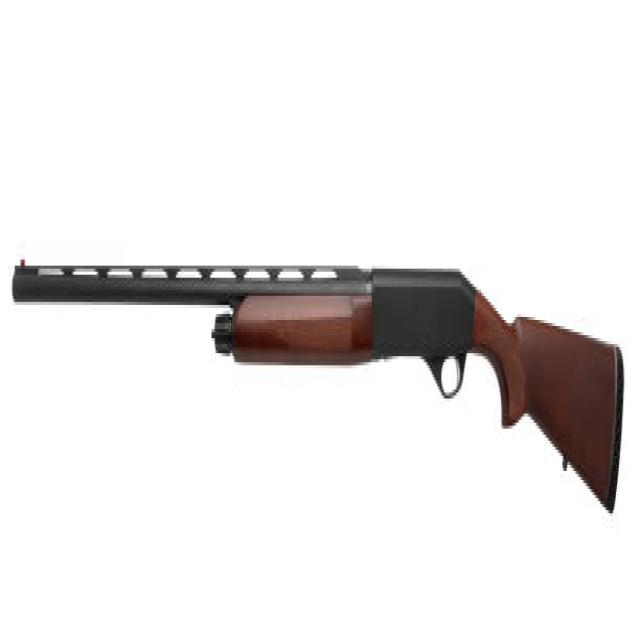rifle: (12, 252, 627, 518)
